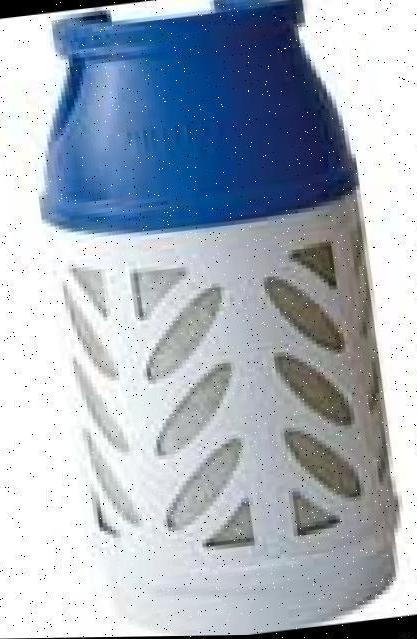cylinder: (1, 0, 417, 639)
